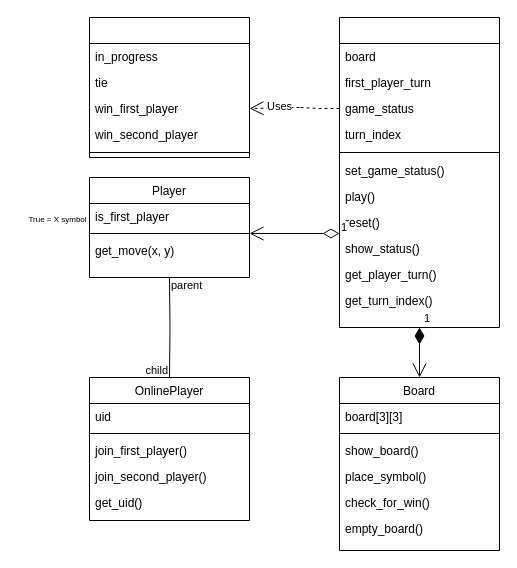
Image size: 517x568. Some labels were removed from this diagram. The shapes that lost their labels are listed below. From the top down, each one's box as (x1, y1, x2, y2) in pixels, then its label:
(88, 16, 250, 158): game_status enum
(338, 16, 500, 328): GameController
